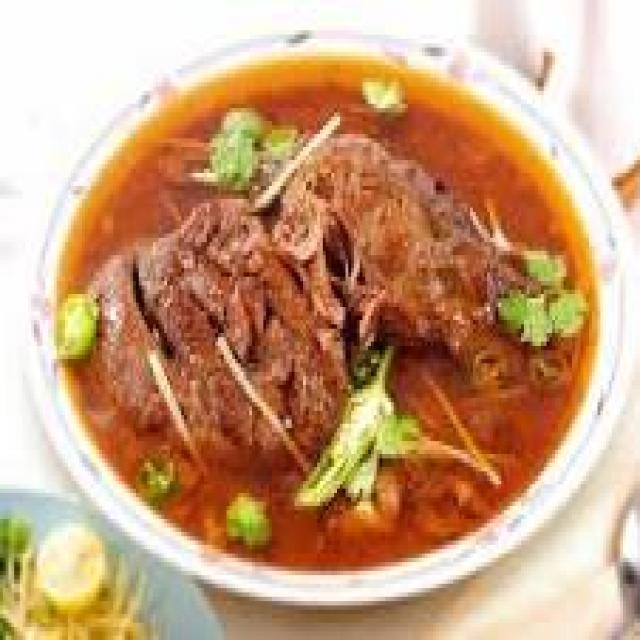Wet: (47, 57, 603, 573)
